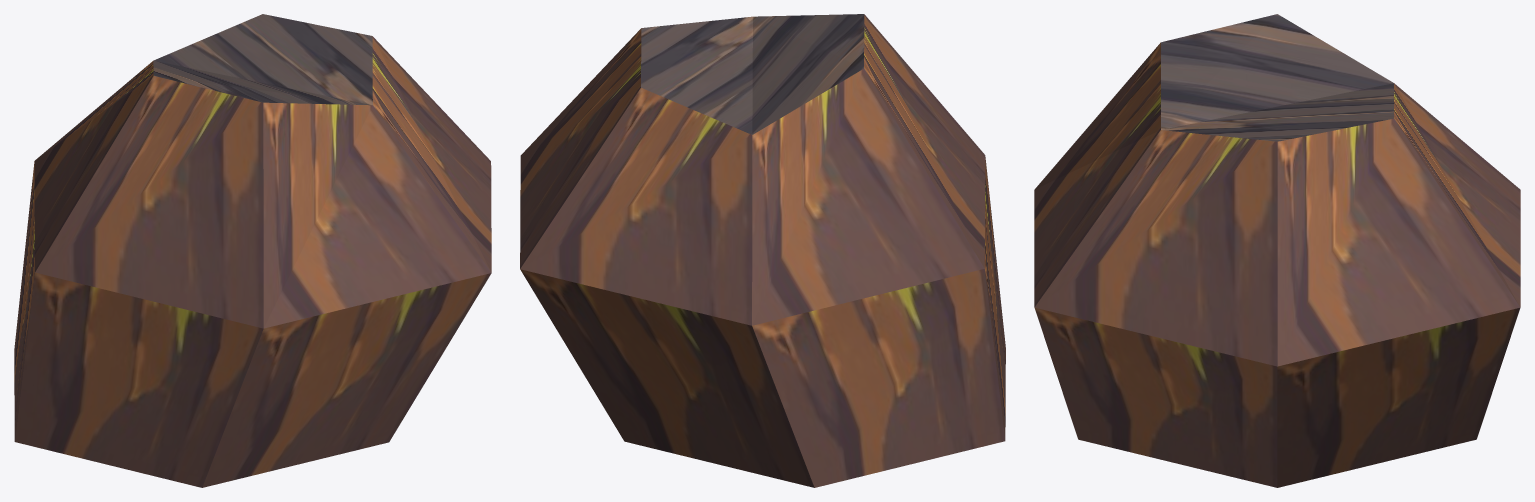
Rendered from rc_terrain_rock_large_b.glb.
3 views of the same model, side by side, from view 1: azimuth 30°, elevation 25°; view 2: azimuth 150°, elevation 25°; view 3: azimuth 270°, elevation 25° (orthographic). The views are drawn at different scales.
Visible parts, largest first — view 1: SM_RC_Terrain_Rock_Large_B; view 2: SM_RC_Terrain_Rock_Large_B; view 3: SM_RC_Terrain_Rock_Large_B.
Part boxes in pixels (bbox=[...]): SM_RC_Terrain_Rock_Large_B: bbox=[14, 14, 491, 487]; SM_RC_Terrain_Rock_Large_B: bbox=[520, 14, 1005, 487]; SM_RC_Terrain_Rock_Large_B: bbox=[1034, 14, 1520, 487].
Size of the model in its own units: 6 by 4 by 5.
1 material, 1 textured.
